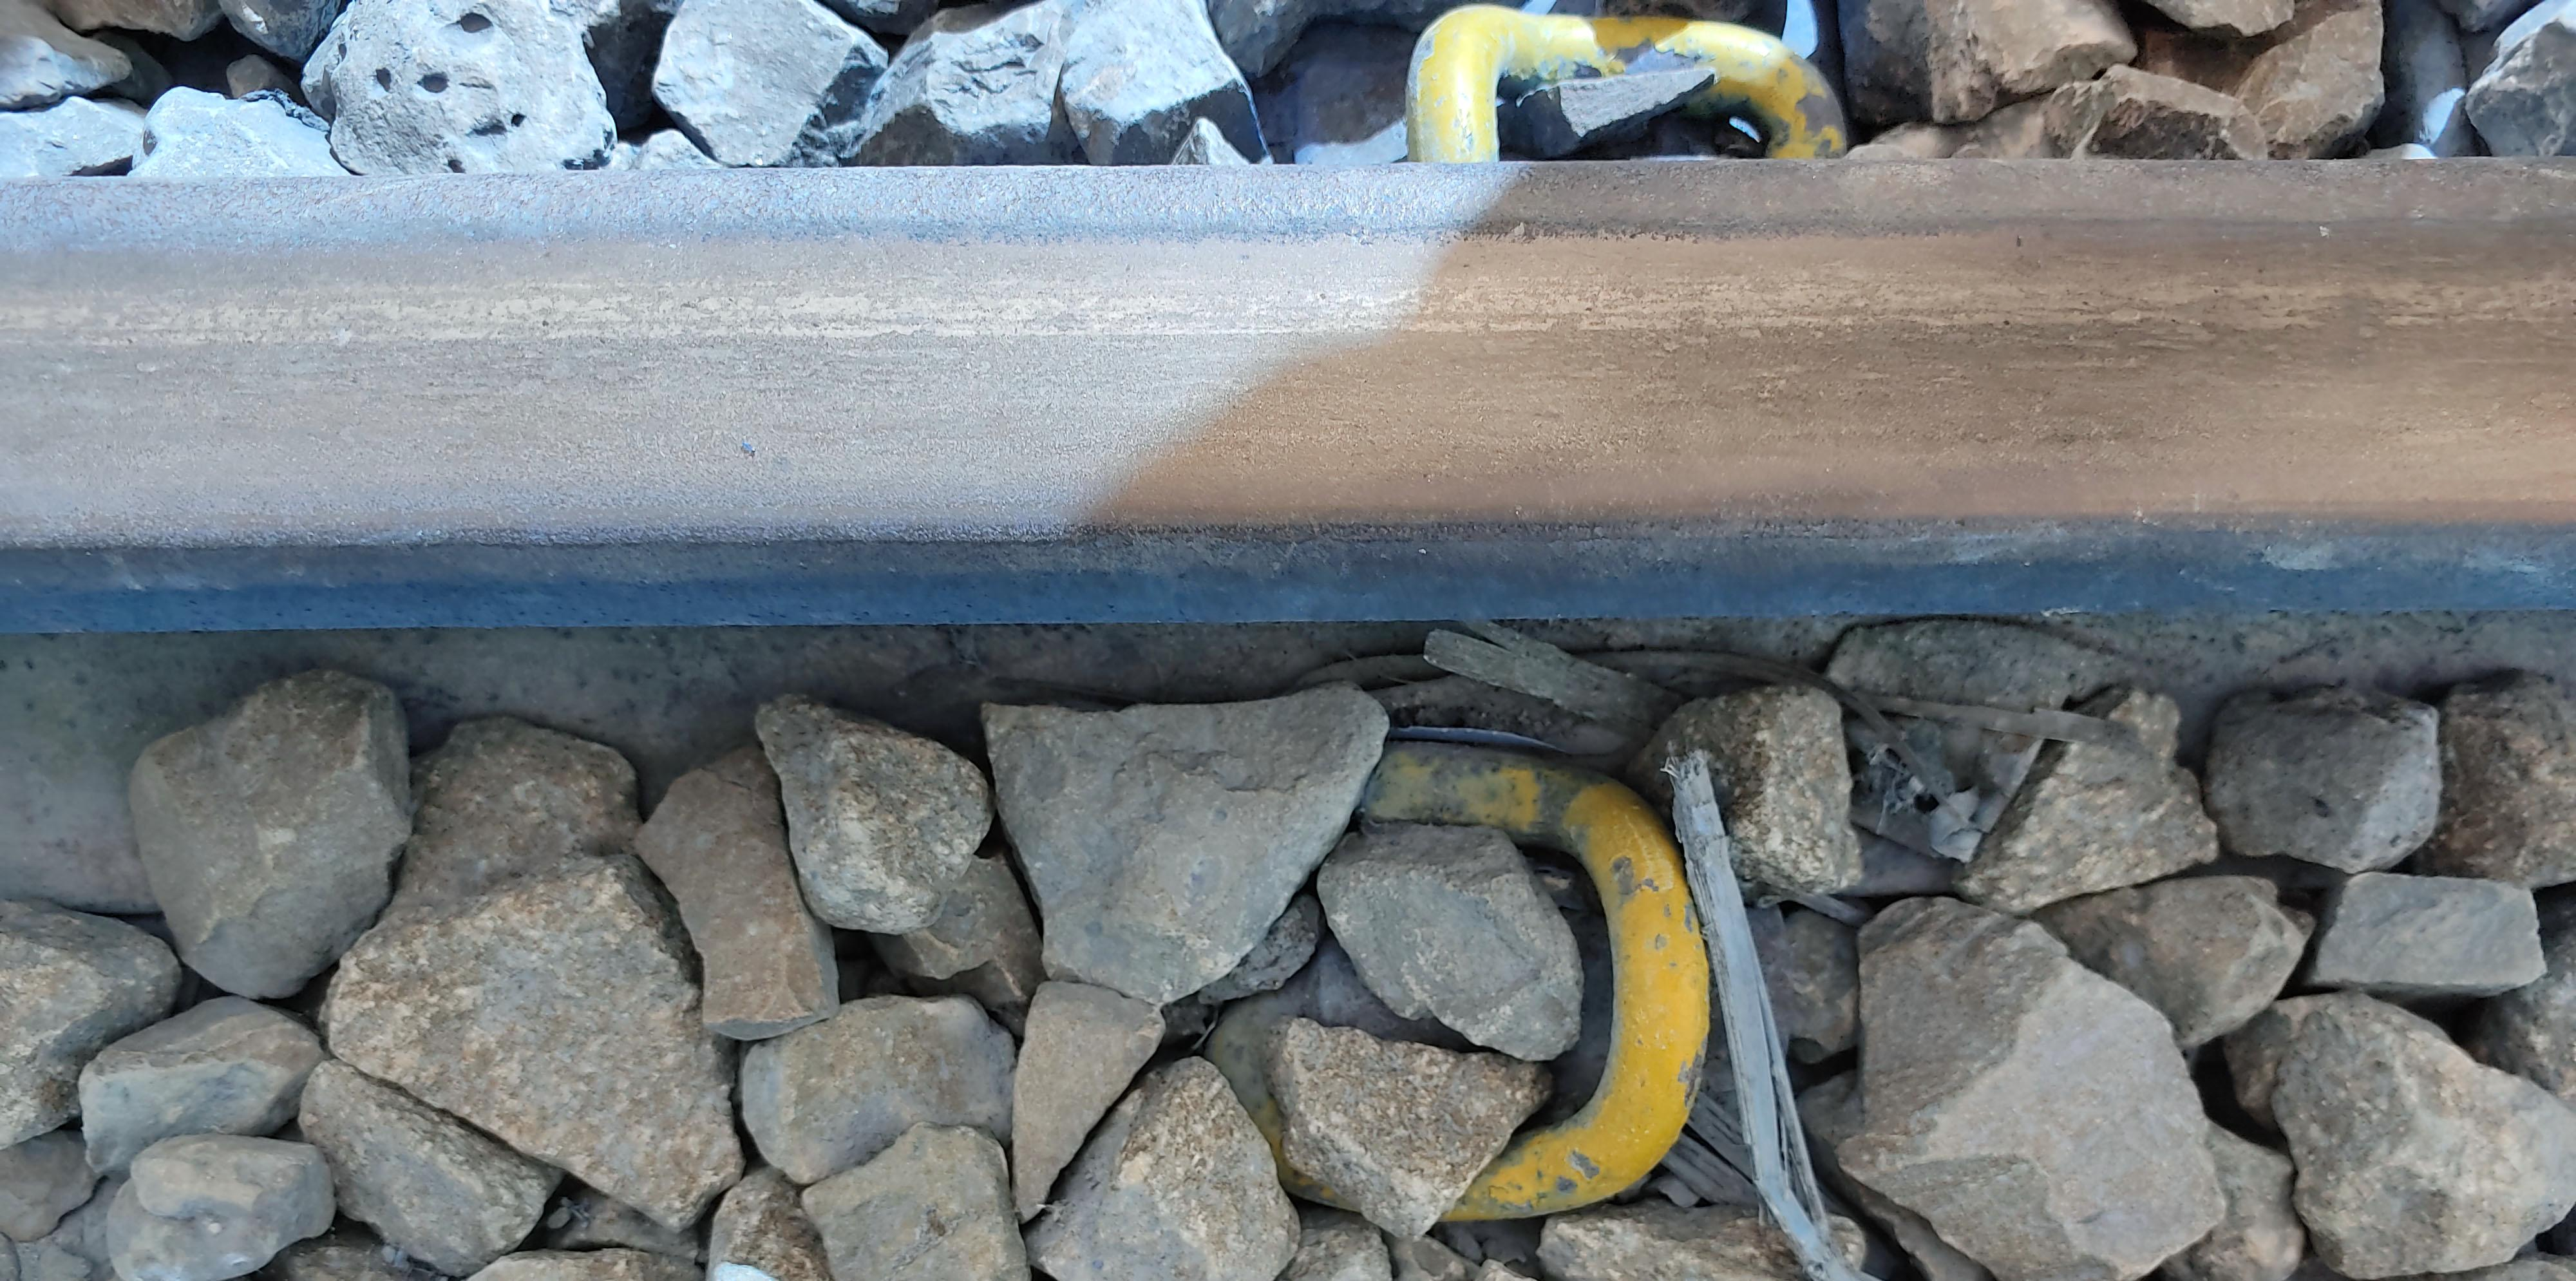error1: (1304, 683, 1730, 1227), (1345, 5, 1871, 215)
